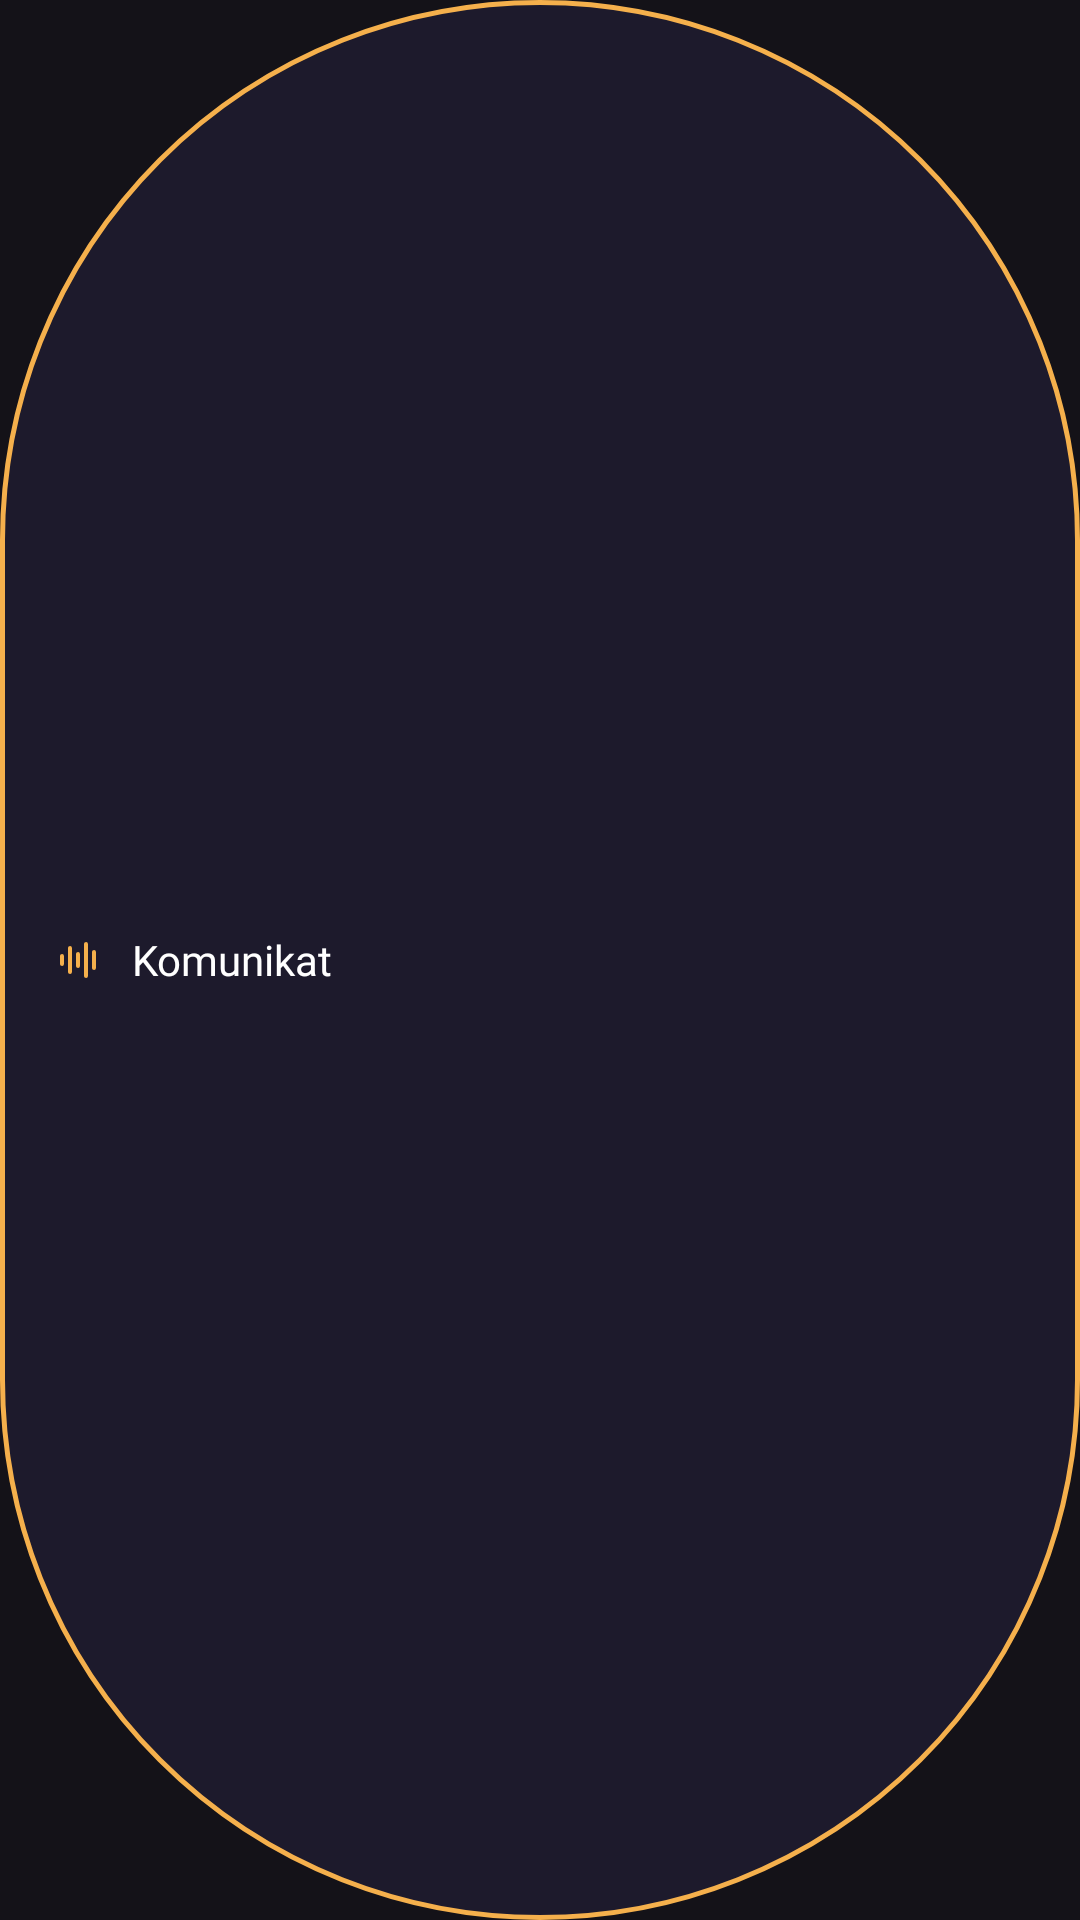

Locate icon controls on the screen. Image size 1080px x 1920px, boxes as (x1,y1,x2,y2).
equalizer: (60,942,96,978)
